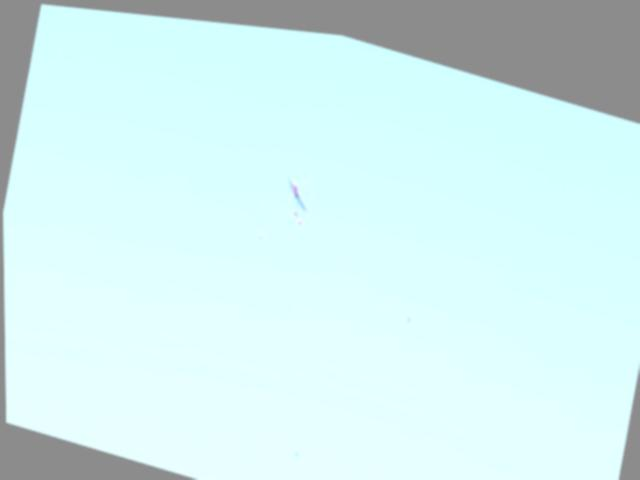uav: (270, 156, 321, 220)
